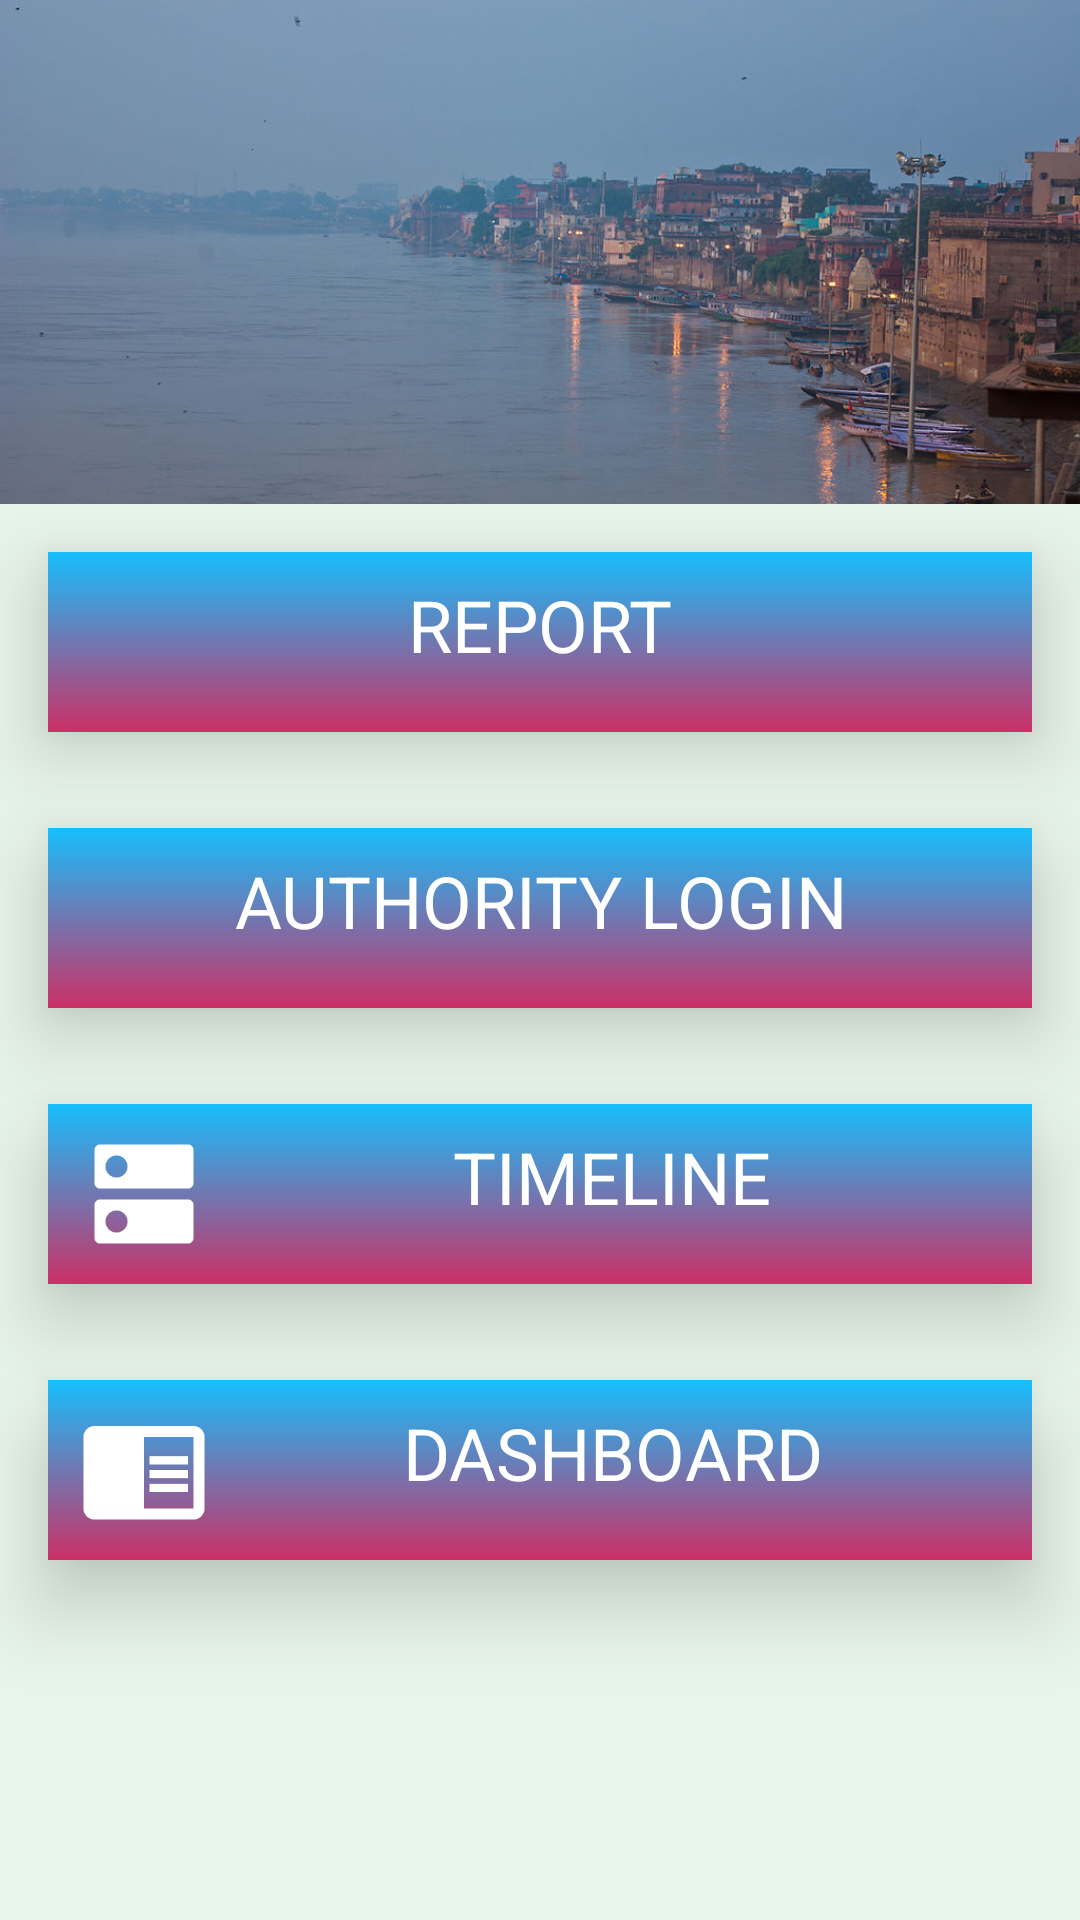

Where to tap for icons on this 1080px x 1920px app screen, as [x,y]:
chrome reader mode: [144,1470]
